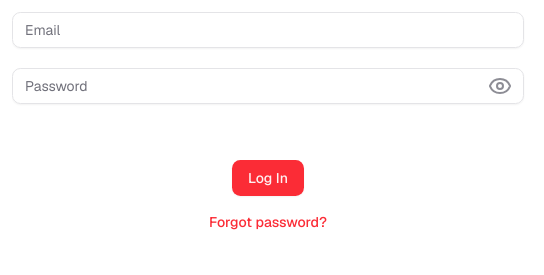
Scenario: LoginForm (unit) › forbids spaces in password
Type "user@example.com" into the field with placeholder "Email" at (268, 30), box left=12, top=12, right=524, bottom=48
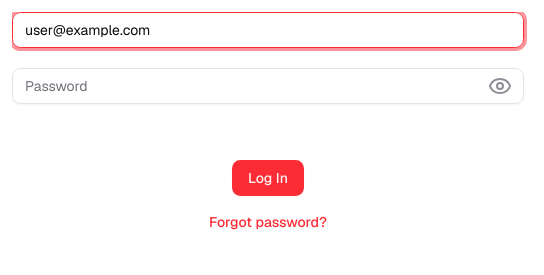
Type "abc 123" into the password field with placeholder "Password" at (268, 86), box left=12, top=68, right=524, bottom=104
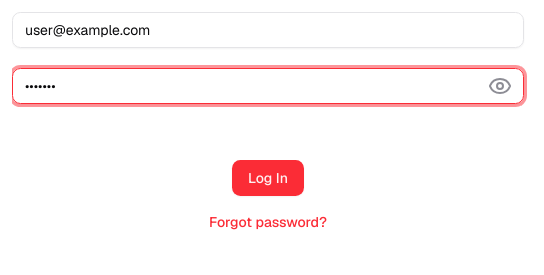
Click the button "Log In" at (268, 178), box left=232, top=160, right=304, bottom=196
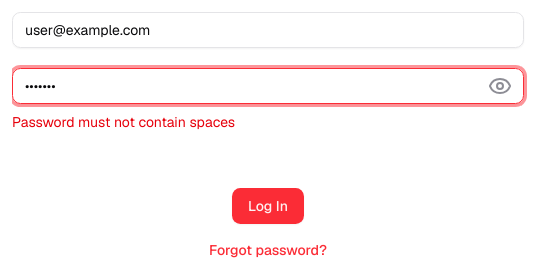
Now the text "Password must not contain spaces" is shown, box left=12, top=113, right=235, bottom=131
